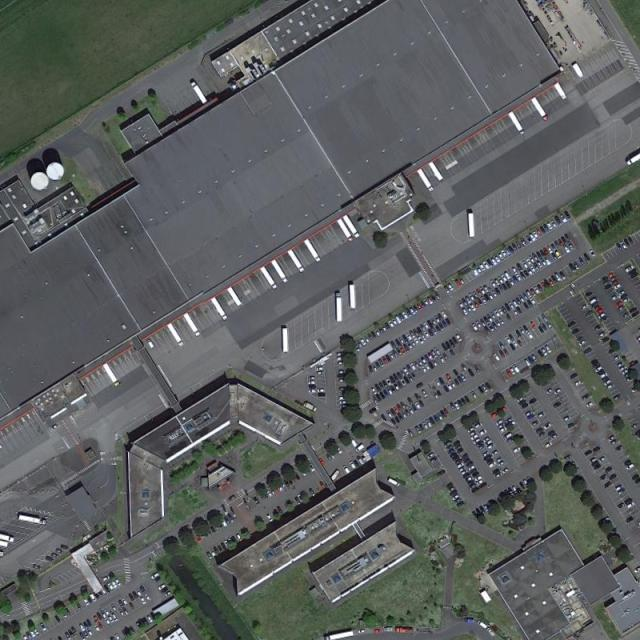vehicle: (342, 214, 361, 238), (531, 98, 550, 122), (288, 249, 306, 273), (183, 313, 201, 337), (508, 111, 526, 135), (304, 239, 322, 262), (271, 260, 289, 283), (260, 266, 278, 289), (167, 324, 185, 347), (103, 364, 121, 387), (417, 169, 435, 192), (190, 82, 208, 105), (337, 218, 354, 242), (211, 298, 228, 320), (227, 286, 242, 307), (429, 162, 444, 182), (18, 515, 47, 525), (325, 630, 354, 640), (554, 83, 567, 100), (627, 150, 640, 166), (302, 402, 318, 414), (468, 213, 475, 238), (336, 293, 342, 322), (330, 469, 342, 482), (282, 328, 288, 353), (396, 626, 414, 634), (476, 619, 489, 630), (387, 478, 401, 488), (1, 534, 16, 543), (350, 285, 355, 310), (486, 626, 496, 638), (355, 444, 366, 454), (356, 456, 366, 466), (554, 386, 564, 396), (503, 432, 514, 441), (519, 402, 530, 411), (569, 263, 578, 274), (542, 422, 554, 430), (335, 445, 344, 455), (543, 441, 553, 450), (512, 446, 522, 455), (516, 395, 526, 404), (531, 419, 541, 428), (535, 426, 545, 435), (512, 364, 521, 374), (606, 382, 616, 391), (582, 393, 592, 402), (528, 397, 538, 406), (467, 368, 476, 378), (253, 495, 261, 506), (150, 572, 161, 580), (206, 550, 214, 561), (594, 309, 605, 317), (559, 270, 567, 281), (450, 490, 459, 499), (342, 465, 351, 474), (609, 473, 618, 482), (603, 481, 612, 490), (538, 430, 547, 439), (473, 437, 482, 446), (482, 261, 491, 270), (622, 310, 631, 319), (399, 402, 408, 411), (396, 404, 405, 413), (613, 393, 622, 402), (574, 379, 583, 388), (350, 438, 358, 448), (308, 463, 316, 473), (309, 488, 317, 498), (615, 484, 625, 492), (536, 411, 546, 419), (614, 445, 624, 453), (474, 422, 484, 430), (142, 617, 150, 627), (122, 607, 130, 617), (157, 584, 167, 592), (70, 626, 78, 636), (522, 260, 530, 270), (554, 250, 562, 260), (550, 220, 558, 230), (560, 214, 568, 224), (490, 279, 498, 289), (465, 295, 473, 305), (462, 307, 470, 317), (578, 339, 588, 347), (537, 316, 545, 326), (567, 321, 577, 329), (591, 301, 601, 309), (608, 272, 618, 280), (600, 316, 610, 324), (472, 267, 480, 277), (461, 363, 469, 373), (618, 366, 628, 374), (569, 372, 579, 380), (474, 366, 482, 376), (482, 384, 490, 394), (434, 347, 442, 357), (441, 342, 449, 352), (147, 614, 154, 625), (111, 603, 118, 614), (426, 418, 433, 429), (463, 618, 475, 624), (471, 486, 480, 494), (294, 473, 302, 482), (294, 497, 302, 506), (227, 514, 235, 523), (445, 482, 454, 490), (479, 482, 488, 490), (553, 401, 562, 409), (605, 466, 614, 474), (625, 498, 634, 506), (617, 502, 626, 510), (626, 516, 634, 525), (499, 426, 508, 434), (589, 457, 598, 465), (592, 460, 601, 468), (545, 388, 554, 396), (518, 398, 527, 406), (525, 410, 534, 418), (527, 414, 536, 422), (626, 463, 635, 471), (610, 438, 619, 446), (469, 430, 478, 438), (459, 466, 468, 474), (492, 468, 501, 476), (437, 470, 446, 478), (90, 594, 98, 603), (62, 611, 70, 620), (54, 615, 62, 624), (110, 580, 118, 589), (140, 597, 148, 606), (118, 600, 126, 609), (94, 625, 102, 634), (512, 275, 520, 284), (505, 281, 513, 290), (629, 268, 637, 277), (625, 265, 634, 273), (546, 246, 554, 255), (544, 257, 552, 266), (526, 235, 534, 244), (520, 238, 528, 247), (486, 259, 494, 268), (469, 294, 477, 303), (583, 253, 591, 262), (515, 330, 523, 339), (584, 347, 593, 355), (506, 369, 514, 378), (524, 358, 532, 367), (538, 350, 546, 359), (538, 326, 546, 335), (572, 328, 581, 336), (554, 273, 562, 282), (486, 314, 494, 323), (471, 323, 479, 332), (406, 397, 414, 406), (390, 408, 398, 417), (386, 410, 394, 419), (401, 411, 409, 420), (407, 374, 415, 383), (382, 389, 390, 398), (446, 382, 454, 391), (622, 368, 630, 377), (590, 358, 599, 366), (593, 362, 602, 370), (604, 379, 613, 387), (407, 429, 415, 438), (460, 374, 468, 383), (422, 422, 430, 431), (398, 337, 406, 346), (402, 334, 410, 343), (430, 318, 438, 327), (434, 316, 442, 325), (374, 329, 382, 338), (402, 367, 410, 376), (410, 363, 418, 372), (414, 361, 422, 370), (417, 358, 425, 367), (508, 488, 515, 498), (584, 450, 594, 457), (547, 430, 557, 437), (51, 552, 61, 559), (40, 623, 47, 633), (145, 594, 152, 604), (101, 610, 108, 620), (516, 262, 523, 272), (543, 248, 550, 258), (555, 216, 562, 226), (564, 210, 571, 220), (481, 296, 488, 306), (458, 300, 465, 310), (473, 291, 480, 301), (574, 261, 581, 271), (527, 332, 534, 342), (576, 335, 586, 342), (519, 327, 526, 337), (504, 302, 511, 312), (379, 391, 386, 401), (368, 407, 378, 414), (429, 416, 436, 426), (439, 355, 446, 365), (413, 328, 420, 338), (416, 326, 423, 336), (427, 296, 434, 306), (449, 338, 456, 348), (382, 379, 389, 389), (32, 564, 43, 570), (228, 538, 234, 549), (452, 494, 460, 502), (618, 488, 626, 496), (627, 502, 635, 510), (506, 417, 514, 425), (498, 422, 506, 430), (594, 463, 602, 471), (550, 433, 558, 441), (608, 435, 616, 443), (454, 440, 462, 448), (455, 458, 463, 466), (462, 454, 470, 462), (484, 454, 492, 462), (30, 630, 38, 638), (61, 543, 69, 551), (266, 514, 274, 522), (122, 598, 130, 606), (79, 632, 87, 640), (563, 415, 571, 423), (630, 271, 638, 279), (620, 242, 628, 250), (563, 246, 571, 254), (550, 253, 558, 261), (578, 258, 586, 266), (508, 246, 516, 254), (501, 250, 509, 258), (498, 253, 506, 261), (541, 323, 549, 331), (541, 314, 549, 322), (631, 310, 639, 318), (598, 312, 606, 320), (618, 304, 626, 312), (494, 310, 502, 318), (498, 342, 506, 350), (491, 322, 499, 330), (484, 326, 492, 334), (390, 418, 398, 426), (414, 402, 422, 410), (414, 394, 422, 402), (598, 369, 606, 377), (602, 375, 610, 383), (478, 386, 486, 394), (442, 353, 450, 361), (454, 279, 462, 287), (406, 365, 414, 373), (430, 350, 438, 358), (455, 334, 463, 342), (410, 340, 418, 348), (374, 384, 382, 392), (378, 382, 386, 390), (354, 460, 361, 469), (350, 461, 357, 470), (284, 479, 291, 488), (319, 480, 326, 489), (598, 456, 607, 463), (479, 429, 488, 436), (427, 453, 436, 460), (103, 584, 110, 593), (214, 546, 221, 555), (210, 549, 217, 558), (108, 615, 115, 624), (112, 613, 119, 622), (118, 608, 125, 617), (128, 593, 135, 602), (140, 586, 147, 595), (97, 613, 104, 622), (68, 629, 75, 638), (94, 615, 101, 624), (79, 623, 86, 632), (83, 621, 90, 630), (541, 259, 548, 268), (529, 256, 536, 265), (505, 272, 512, 281), (536, 252, 543, 261), (539, 250, 546, 259), (590, 250, 597, 259), (554, 241, 561, 250), (547, 222, 554, 231), (540, 225, 547, 234), (477, 289, 484, 298), (495, 287, 502, 296), (474, 301, 481, 310), (470, 303, 477, 312), (567, 422, 576, 429), (528, 356, 535, 365), (531, 354, 538, 363), (542, 348, 549, 357), (546, 345, 553, 354), (546, 321, 553, 330), (523, 325, 530, 334), (598, 331, 607, 338), (615, 302, 624, 309), (629, 307, 638, 314), (503, 348, 510, 357), (527, 300, 534, 309), (530, 289, 537, 298), (534, 286, 541, 295), (510, 343, 517, 352), (483, 316, 490, 325), (488, 324, 495, 333), (480, 318, 487, 327), (394, 406, 401, 415), (405, 409, 412, 418), (408, 406, 415, 415), (400, 378, 407, 387), (453, 369, 460, 378), (459, 277, 466, 286), (616, 362, 625, 369), (594, 366, 603, 373), (600, 372, 609, 379), (415, 426, 422, 435), (471, 391, 478, 400), (443, 408, 450, 417), (428, 361, 435, 370), (390, 341, 397, 350), (395, 339, 402, 348), (406, 333, 413, 342), (420, 324, 427, 333), (427, 320, 434, 329), (438, 323, 445, 332), (435, 325, 442, 334), (360, 338, 367, 347), (364, 335, 371, 344), (417, 303, 424, 312), (395, 316, 402, 325), (388, 320, 395, 329), (431, 327, 438, 336), (424, 354, 431, 363), (427, 352, 434, 361), (389, 375, 396, 384), (452, 336, 459, 345), (389, 352, 396, 361), (418, 337, 425, 346), (414, 338, 421, 347), (407, 342, 414, 351), (403, 345, 410, 354), (396, 347, 403, 356), (392, 350, 399, 359), (386, 354, 393, 363), (45, 557, 55, 563), (520, 271, 526, 281), (544, 223, 550, 233), (488, 292, 494, 302), (376, 394, 382, 404), (373, 396, 379, 406), (450, 402, 456, 412), (410, 330, 416, 340), (421, 356, 427, 366), (379, 359, 385, 369), (586, 290, 594, 297), (326, 453, 333, 461), (319, 458, 326, 466), (447, 487, 455, 494), (454, 498, 462, 505), (457, 501, 465, 508), (519, 482, 526, 490), (479, 506, 486, 514), (475, 508, 482, 516), (471, 510, 478, 518), (270, 487, 277, 495), (266, 490, 273, 498), (298, 494, 305, 502), (195, 534, 202, 542), (210, 526, 217, 534), (467, 426, 475, 433), (495, 419, 503, 426), (593, 446, 601, 453), (471, 434, 479, 441), (450, 451, 458, 458), (446, 445, 454, 452), (464, 458, 472, 465), (472, 471, 480, 478), (452, 455, 460, 462), (482, 451, 490, 458), (476, 440, 484, 447), (478, 443, 486, 450), (486, 440, 494, 447), (430, 457, 438, 464), (486, 458, 494, 465), (26, 632, 33, 640), (100, 587, 107, 595), (94, 592, 101, 600), (83, 598, 90, 606), (76, 603, 83, 611), (33, 627, 40, 635), (1, 540, 9, 547), (115, 579, 122, 587), (129, 626, 136, 634), (236, 534, 243, 542), (277, 506, 284, 514), (221, 542, 228, 550), (105, 618, 112, 626), (165, 590, 172, 598), (87, 629, 94, 637), (605, 283, 613, 290), (498, 277, 505, 285), (537, 261, 544, 269), (532, 254, 539, 262), (530, 265, 537, 273), (527, 268, 534, 276), (526, 258, 533, 266), (523, 270, 530, 278), (509, 278, 516, 286), (501, 274, 508, 282), (502, 282, 509, 290), (494, 278, 501, 286), (498, 285, 505, 293), (529, 234, 537, 241), (505, 248, 512, 256), (494, 256, 502, 263), (491, 258, 498, 266), (479, 287, 486, 295), (466, 305, 473, 313), (462, 298, 469, 306), (510, 367, 517, 375), (530, 322, 537, 330), (612, 279, 620, 286), (614, 283, 622, 290), (621, 293, 629, 300), (590, 298, 598, 305), (501, 306, 508, 314), (519, 296, 526, 304), (522, 293, 529, 301), (523, 302, 530, 310), (530, 298, 537, 306), (526, 290, 533, 298), (537, 284, 544, 292), (551, 275, 558, 283), (509, 334, 516, 342), (499, 350, 506, 358), (494, 354, 501, 362), (498, 318, 505, 326), (495, 320, 502, 328), (476, 266, 483, 274), (451, 382, 458, 390), (381, 414, 388, 422), (394, 416, 401, 424), (398, 414, 405, 422), (419, 400, 426, 408), (443, 386, 450, 394), (422, 390, 429, 398), (390, 386, 397, 394), (411, 372, 418, 380), (394, 383, 401, 391), (387, 388, 394, 396), (439, 378, 446, 386), (446, 374, 453, 382), (458, 400, 465, 408), (454, 402, 461, 410), (440, 410, 447, 418), (424, 322, 431, 330), (441, 311, 448, 319), (442, 321, 449, 329), (406, 310, 413, 318), (447, 283, 454, 291), (444, 286, 451, 294), (423, 298, 430, 306), (410, 308, 417, 316), (402, 312, 409, 320), (399, 314, 406, 322), (423, 331, 430, 339), (449, 349, 456, 357), (393, 374, 400, 382), (386, 378, 393, 386), (382, 357, 389, 365), (375, 361, 382, 369), (339, 386, 350, 391), (337, 357, 348, 362), (330, 450, 336, 459), (512, 486, 518, 495), (222, 518, 228, 527), (218, 519, 224, 528), (463, 473, 472, 479), (482, 437, 491, 443), (55, 548, 64, 554), (136, 589, 142, 598), (105, 609, 111, 618), (65, 631, 71, 640), (84, 630, 90, 639), (86, 618, 92, 627), (534, 263, 540, 272), (512, 266, 518, 275), (628, 237, 634, 246), (624, 238, 630, 247), (565, 234, 571, 243), (562, 237, 568, 246), (536, 228, 542, 237), (485, 294, 491, 303), (622, 297, 631, 303), (594, 325, 603, 331), (517, 306, 523, 315), (412, 405, 418, 414), (404, 376, 410, 385), (465, 395, 471, 404), (438, 413, 444, 422), (434, 414, 440, 423), (428, 329, 434, 338), (446, 341, 452, 350), (372, 387, 378, 396), (338, 352, 348, 357), (384, 627, 394, 632), (449, 448, 456, 455), (458, 462, 465, 469), (470, 483, 477, 490), (488, 443, 495, 450), (496, 457, 503, 464), (491, 450, 498, 457), (490, 462, 497, 469), (87, 596, 94, 603), (217, 546, 224, 553), (491, 291, 498, 298), (611, 294, 618, 301), (498, 309, 505, 316), (490, 312, 497, 319), (371, 331, 378, 338), (378, 327, 385, 334), (338, 374, 350, 378), (523, 479, 529, 487), (278, 484, 284, 492), (476, 480, 484, 486), (461, 470, 469, 476), (466, 477, 474, 483), (467, 480, 475, 486), (457, 448, 465, 454), (467, 462, 475, 468), (475, 476, 483, 482), (502, 468, 510, 474), (66, 608, 72, 616), (98, 590, 104, 598), (108, 583, 114, 591), (130, 602, 136, 610), (133, 590, 139, 598), (98, 622, 104, 630), (551, 244, 557, 252), (516, 241, 522, 249), (478, 299, 484, 307), (618, 290, 626, 296), (518, 339, 524, 347), (509, 302, 515, 310), (513, 300, 519, 308), (516, 297, 522, 305), (476, 321, 482, 329), (480, 264, 486, 272), (398, 381, 404, 389), (586, 402, 594, 408), (461, 398, 467, 406), (419, 423, 425, 431), (433, 360, 439, 368), (438, 314, 444, 322), (446, 318, 452, 326), (368, 333, 374, 341), (385, 323, 391, 331), (397, 371, 403, 379), (400, 370, 406, 378), (421, 334, 427, 342), (400, 346, 406, 354), (340, 400, 349, 405), (317, 393, 326, 398), (316, 366, 325, 371), (215, 522, 220, 531), (454, 445, 463, 450), (421, 300, 426, 309), (373, 364, 378, 373), (369, 365, 374, 374), (339, 379, 350, 383), (484, 505, 490, 512), (471, 468, 478, 474), (498, 461, 505, 467), (495, 473, 502, 479), (155, 576, 162, 582), (616, 243, 622, 250), (559, 240, 565, 247), (512, 243, 518, 250), (484, 286, 490, 293), (513, 341, 519, 348), (506, 314, 512, 321), (454, 379, 460, 386), (614, 355, 621, 361), (382, 326, 388, 333), (339, 397, 349, 401), (318, 388, 326, 393), (308, 376, 316, 381), (309, 389, 317, 394), (339, 370, 349, 374), (517, 274, 522, 282), (549, 278, 554, 286), (513, 309, 518, 317), (506, 337, 511, 345), (436, 380, 441, 388), (426, 364, 431, 372), (422, 366, 427, 374), (631, 389, 639, 394), (393, 318, 398, 326), (115, 634, 121, 640), (225, 541, 229, 550), (569, 244, 574, 251), (534, 232, 539, 239), (437, 390, 442, 397), (458, 376, 463, 383), (317, 371, 325, 375), (309, 381, 317, 385), (374, 630, 382, 634), (358, 630, 366, 634), (338, 362, 348, 365), (434, 394, 439, 400), (342, 405, 349, 409), (310, 385, 317, 389), (1, 550, 5, 557), (627, 378, 634, 382), (470, 466, 476, 470), (22, 636, 28, 640), (58, 636, 63, 640), (110, 637, 115, 640)
